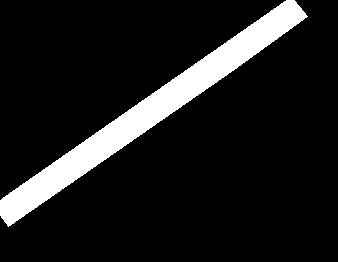parkingspot: (0, 0, 307, 226)
